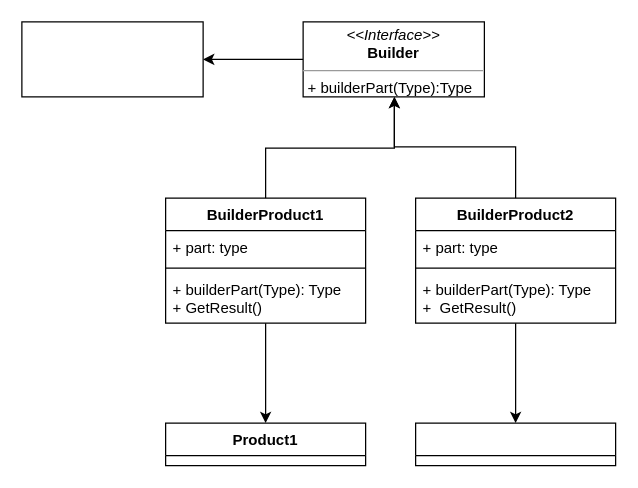
Image size: 638x488. Some labels were removed from this diagram. Each missing label, with the centre of its shape:
"Director + Construct(Type): Type" goes at [112,59].
"Product2" goes at [515,444].
